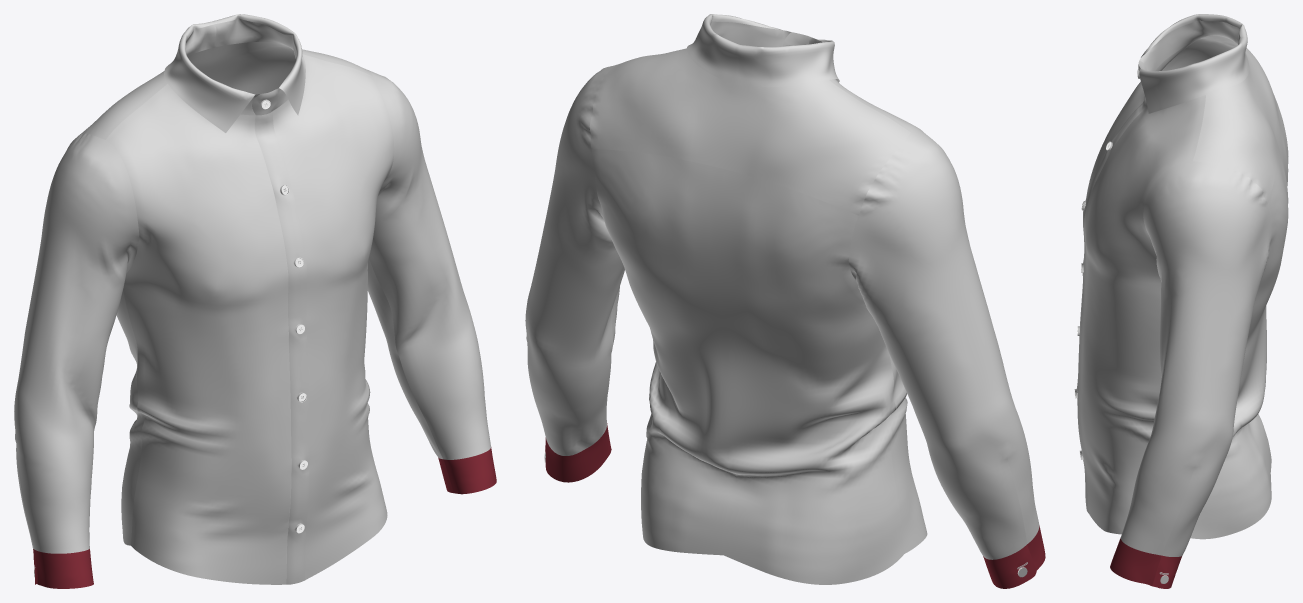
Rendered from Shirt_013.fbx.
3 views of the same model, side by side, from view 1: azimuth 30°, elevation 25°; view 2: azimuth 150°, elevation 25°; view 3: azimuth 270°, elevation 25° (orthographic). The views are drawn at different scales.
Visible parts, largest first — view 1: Pattern_68075297, Pattern_68075298, Pattern_1110631, Pattern_1110630, Pattern_68094140, Pattern_1788499, Pattern_68075299, Pattern_1788496, Pattern_4956462, Pattern_4956461, Pattern_1788497; view 2: Pattern_68075299, Pattern_1110631, Pattern_68094140, Pattern_1110630, Pattern_1788499, Pattern_68075297, Pattern_4959411, Pattern_1788496, Pattern_4959412; view 3: Pattern_1110630, Pattern_68075298, Pattern_68075299, Pattern_68094140, Pattern_1788499, Pattern_1788497, Pattern_4956461, Pattern_68075297, Pattern_1110631, Pattern_4959411.
Part boxes in pixels (bbox=[...]): Pattern_68075297: bbox=[106, 84, 291, 584]; Pattern_68075298: bbox=[255, 54, 394, 584]; Pattern_1110631: bbox=[14, 133, 139, 553]; Pattern_1110630: bbox=[367, 70, 490, 459]; Pattern_68094140: bbox=[80, 41, 372, 139]; Pattern_1788499: bbox=[164, 14, 305, 132]; Pattern_68075299: bbox=[116, 290, 144, 545]; Pattern_1788496: bbox=[213, 18, 296, 115]; Pattern_4956462: bbox=[34, 549, 93, 588]; Pattern_4956461: bbox=[443, 447, 496, 494]; Pattern_1788497: bbox=[185, 24, 259, 115]; Pattern_68075299: bbox=[591, 149, 904, 584]; Pattern_1110631: bbox=[848, 129, 1039, 559]; Pattern_68094140: bbox=[589, 48, 910, 215]; Pattern_1110630: bbox=[525, 64, 624, 455]; Pattern_1788499: bbox=[687, 14, 839, 87]; Pattern_68075297: bbox=[829, 79, 927, 553]; Pattern_4959411: bbox=[545, 435, 603, 482]; Pattern_1788496: bbox=[710, 21, 790, 46]; Pattern_4959412: bbox=[983, 545, 1036, 588]; Pattern_1110630: bbox=[1120, 161, 1271, 556]; Pattern_68075298: bbox=[1076, 95, 1205, 534]; Pattern_68075299: bbox=[1190, 103, 1288, 539]; Pattern_68094140: bbox=[1193, 35, 1277, 204]; Pattern_1788499: bbox=[1139, 14, 1249, 113]; Pattern_1788497: bbox=[1138, 20, 1240, 71]; Pattern_4956461: bbox=[1110, 538, 1161, 586]; Pattern_68075297: bbox=[1086, 36, 1206, 196]; Pattern_1110631: bbox=[1161, 37, 1235, 70]; Pattern_4959411: bbox=[1153, 555, 1181, 588].
Bounding box in the file's own units: 62.59 × 66.58 × 27.15.
